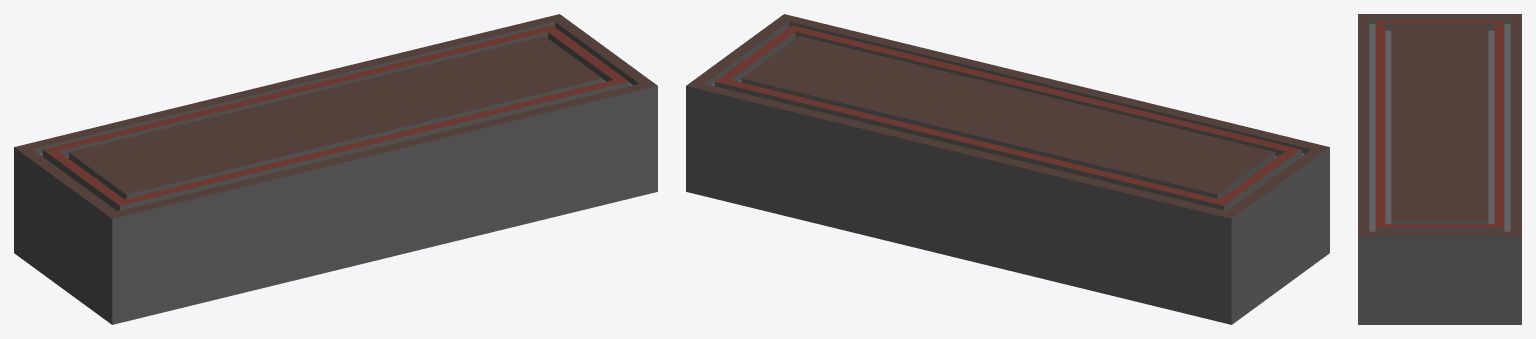
The model's file is longPlatform.fbx.
3 renders of one model, left to right at view 1: azimuth 30°, elevation 25°; view 2: azimuth 150°, elevation 25°; view 3: azimuth 270°, elevation 25°, orthographic. The views are drawn at different scales.
Parts seen in each view (by area): view 1: Cube.002; view 2: Cube.002; view 3: Cube.002.
Boxes of the visible parts, x1,y1,x2,y2 form: Cube.002: [14, 14, 657, 324]; Cube.002: [686, 14, 1329, 324]; Cube.002: [1358, 14, 1521, 324].
Bounding box in the file's own units: 4423 × 831 × 1378.
